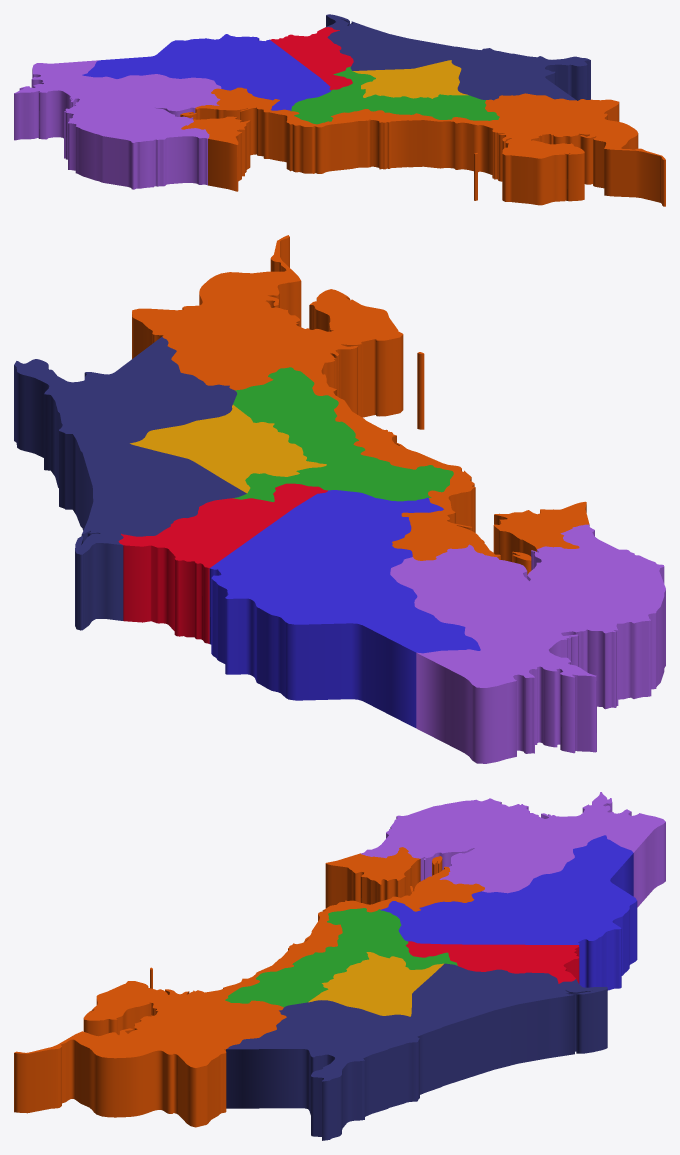
File: cr-color.fbx
The picture shows the model from 3 angles, top to bottom: view 1: azimuth 30°, elevation 25°; view 2: azimuth 150°, elevation 25°; view 3: azimuth 270°, elevation 25°; orthographic projection. The views are drawn at different scales.
Visible parts, largest first — view 1: CRI1330, CRI1334, CRI1329, CRI1333, CRI1331, CRI1327, CRI1328; view 2: CRI1334, CRI1333, CRI1330, CRI1329, CRI1328, CRI1331, CRI1327; view 3: CRI1329, CRI1330, CRI1333, CRI1334, CRI1331, CRI1327, CRI1328.
Boxes of the visible parts, x1,y1,x2,y2 form: CRI1330: (180,87,665,206); CRI1334: (14,60,221,189); CRI1329: (326,14,590,100); CRI1333: (82,34,330,110); CRI1331: (290,66,499,124); CRI1327: (352,60,468,98); CRI1328: (270,27,353,90); CRI1334: (390,524,665,763); CRI1333: (209,490,480,727); CRI1330: (132,235,589,574); CRI1329: (14,336,246,630); CRI1328: (118,483,327,643); CRI1331: (233,367,453,502); CRI1327: (130,405,326,493); CRI1329: (226,963,607,1140); CRI1330: (14,847,484,1127); CRI1333: (381,835,637,990); CRI1334: (360,792,665,907); CRI1331: (225,908,457,1007); CRI1327: (308,952,443,1016); CRI1328: (405,941,579,983).
Size of the model in its own units: 102 by 9.73 by 96.93.
